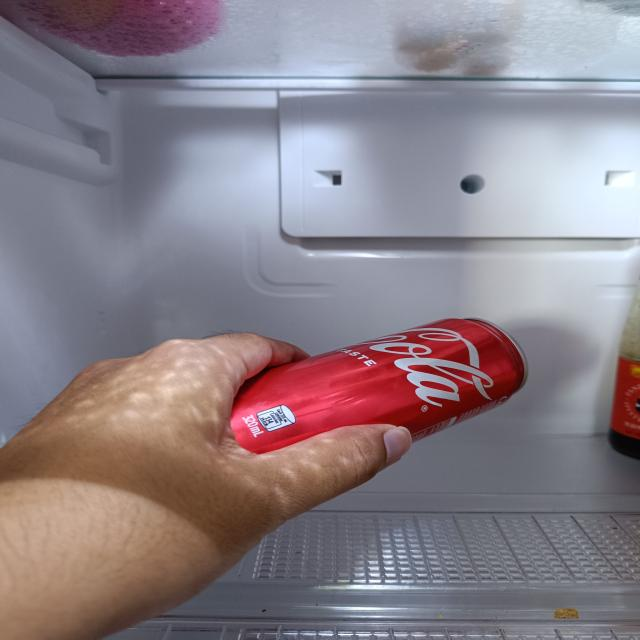coke: (197, 318, 527, 467)
